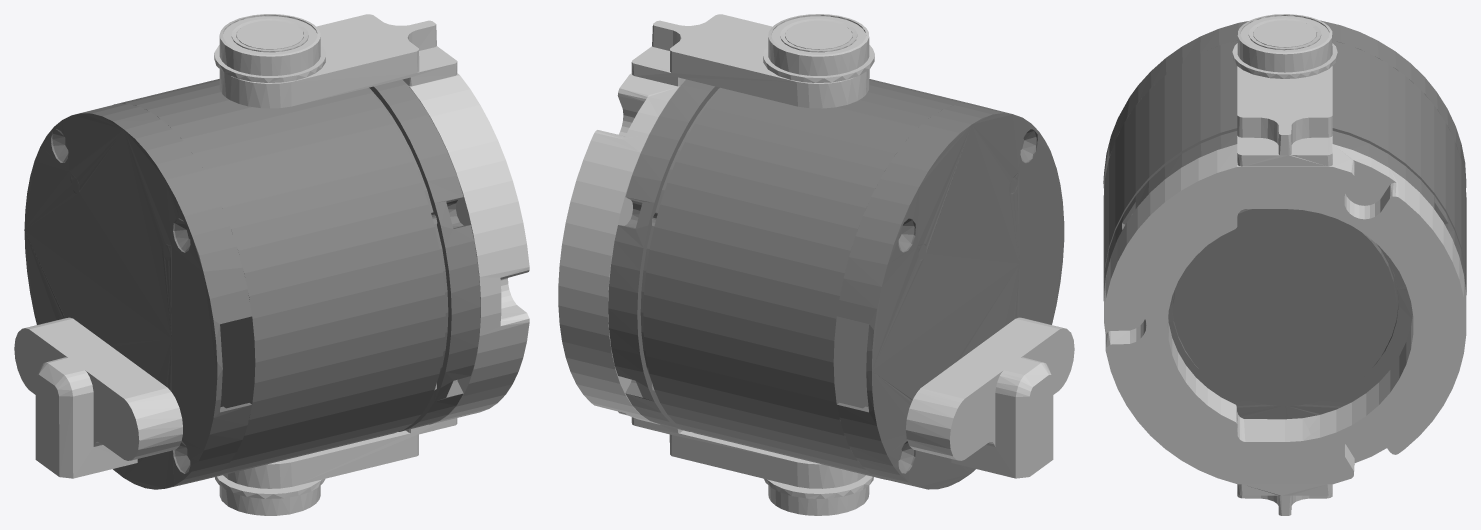
3 views of the same model, side by side, from view 1: azimuth 30°, elevation 25°; view 2: azimuth 150°, elevation 25°; view 3: azimuth 270°, elevation 25° (orthographic). The views are drawn at different scales.
Bounding box in the file's own units: 0.066 × 0.075 × 0.057.
Materials: 1 (1 with a texture image).
